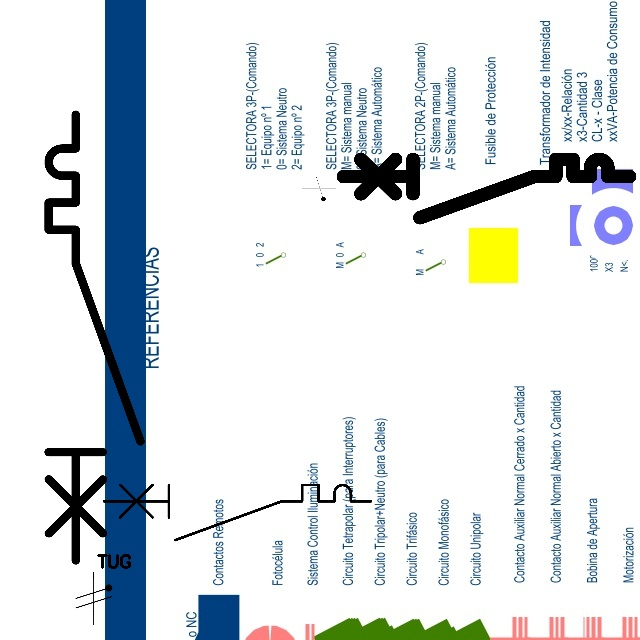interruptor_termomagnetico: (37, 103, 152, 572), (336, 152, 637, 225), (97, 478, 378, 547)
